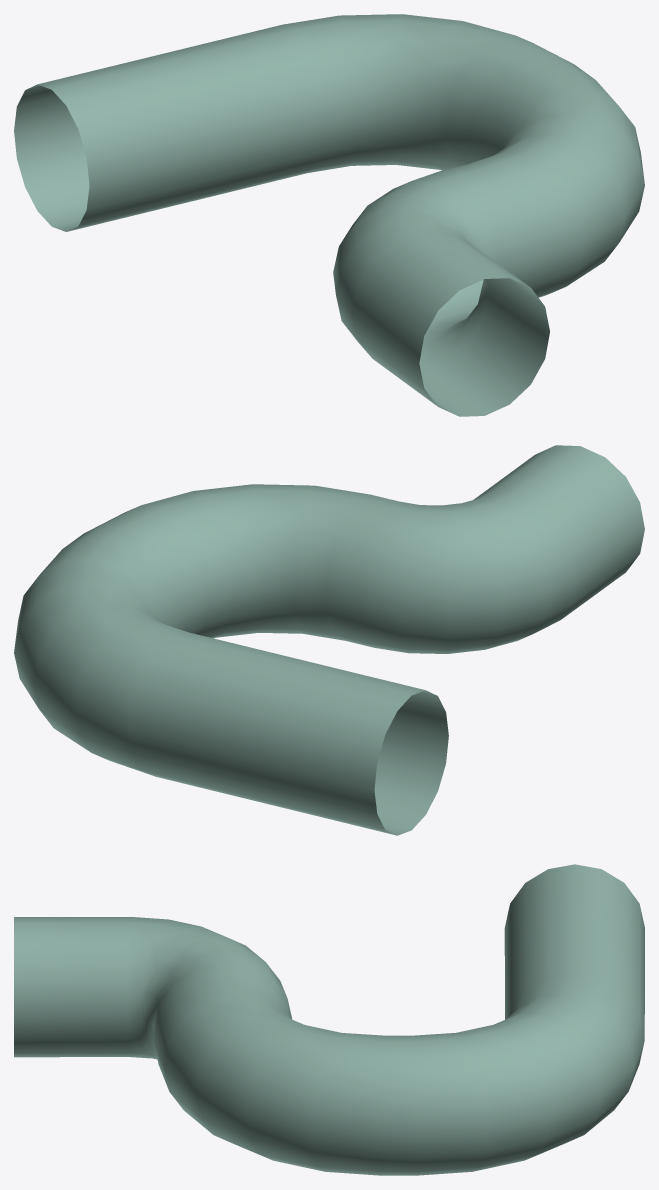
The model's file is PipeLarge_BentSpecial_05.fbx.
3 renders of one model, top to bottom at view 1: azimuth 30°, elevation 25°; view 2: azimuth 150°, elevation 25°; view 3: azimuth 270°, elevation 25°, orthographic. The views are drawn at different scales.
Visible parts, largest first — view 1: PipeLarge_BentSpecial_05.001; view 2: PipeLarge_BentSpecial_05.001; view 3: PipeLarge_BentSpecial_05.001.
Boxes of the visible parts, x1,y1,x2,y2 form: PipeLarge_BentSpecial_05.001: (14, 14, 644, 416); PipeLarge_BentSpecial_05.001: (14, 445, 644, 835); PipeLarge_BentSpecial_05.001: (14, 864, 644, 1175).
Bounding box in the file's own units: 0.6997 × 0.2 × 0.9.
